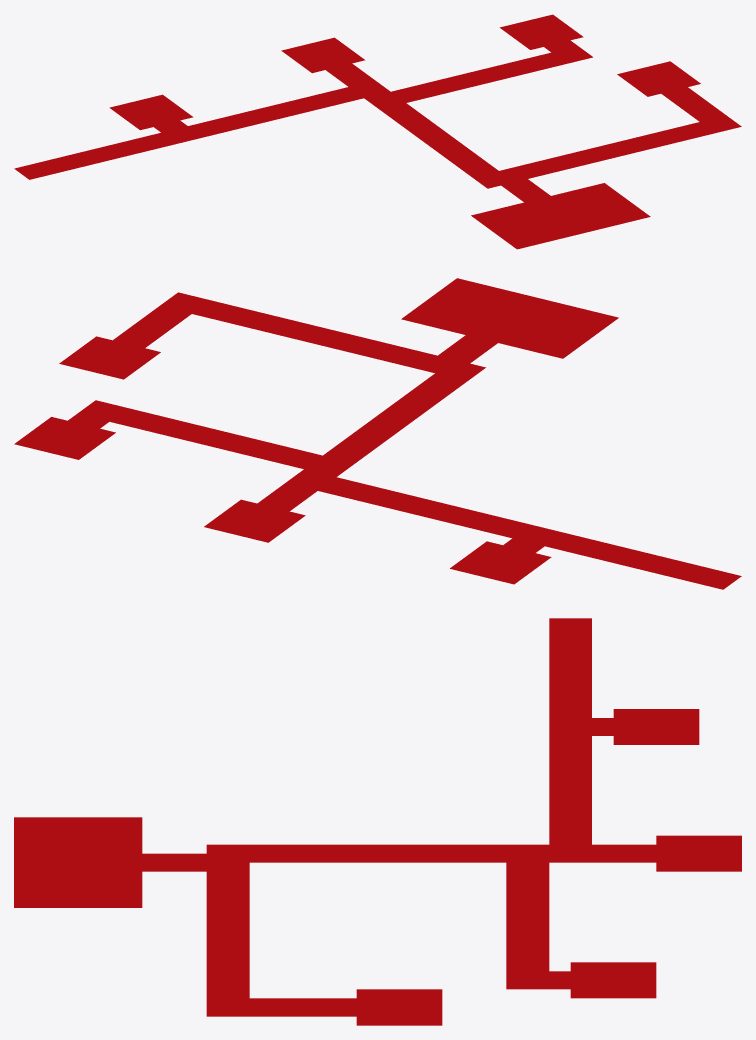
File: layout_path.glb
3 renders of one model, top to bottom at view 1: azimuth 30°, elevation 25°; view 2: azimuth 150°, elevation 25°; view 3: azimuth 270°, elevation 25°, orthographic. The views are drawn at different scales.
Parts seen in each view (by area): view 1: Plane.007; view 2: Plane.007; view 3: Plane.007.
Boxes of the visible parts, x1=… form: Plane.007: x1=14, y1=14, x2=741, y2=249; Plane.007: x1=14, y1=278, x2=741, y2=589; Plane.007: x1=14, y1=618, x2=741, y2=1025.
Size of the model in its own units: 22.5 by 0 by 17.
